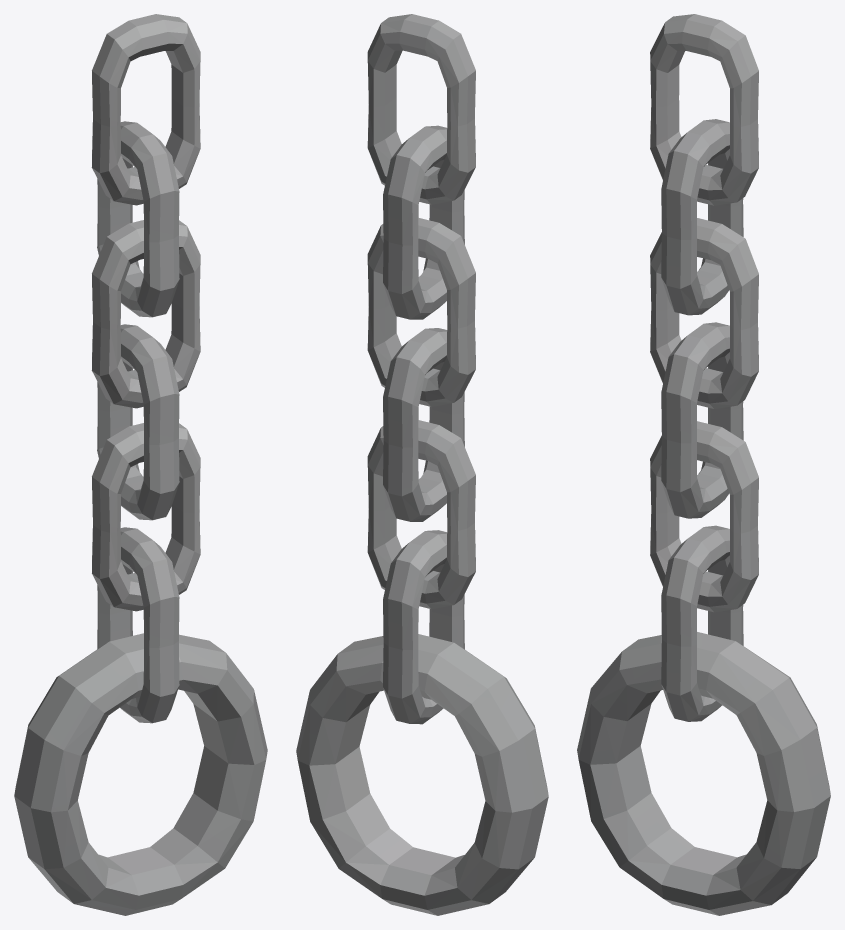
File: chain.obj
The picture shows the model from 3 angles, left to right: view 1: azimuth 30°, elevation 25°; view 2: azimuth 150°, elevation 25°; view 3: azimuth 330°, elevation 25°; orthographic projection.
Visible parts, largest first — view 1: chain_Material, hoop_Material; view 2: chain_Material, hoop_Material; view 3: chain_Material, hoop_Material.
Boxes of the visible parts, x1,y1,x2,y2 form: chain_Material: (91,14,200,723); hoop_Material: (14,633,267,915); chain_Material: (367,14,475,724); hoop_Material: (296,634,548,915); chain_Material: (650,14,758,721); hoop_Material: (577,632,830,915).
Size of the model in its own units: 0.1944 by 0.6939 by 0.0828.
